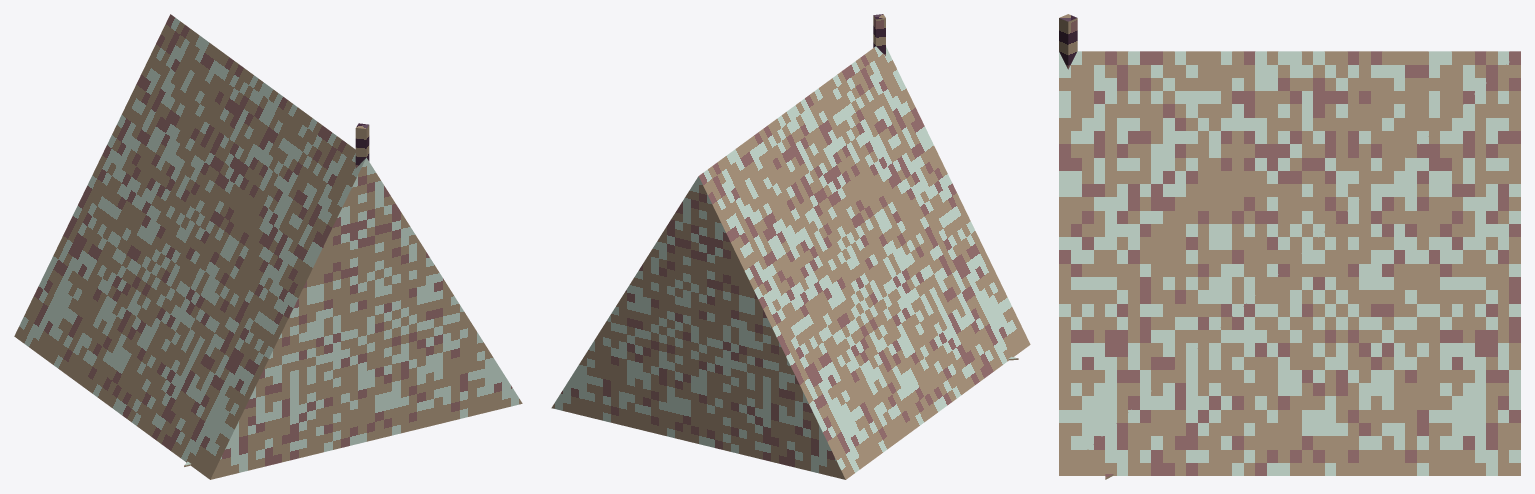
The model's file is a61_tenda_de_refugiados.glb.
3 renders of one model, left to right at view 1: azimuth 30°, elevation 25°; view 2: azimuth 150°, elevation 25°; view 3: azimuth 270°, elevation 25°, orthographic. The views are drawn at different scales.
Parts seen in each view (by area): view 1: a61_tenda_de_refugiados; view 2: a61_tenda_de_refugiados; view 3: a61_tenda_de_refugiados.
Boxes of the visible parts, box(x1,y1,x2,y2) form: a61_tenda_de_refugiados: box(14, 14, 522, 479); a61_tenda_de_refugiados: box(551, 14, 1030, 479); a61_tenda_de_refugiados: box(1059, 14, 1520, 479).
Bounding box in the file's own units: 2.4 × 2.2 × 2.5.
Materials: 2 (2 with a texture image).
